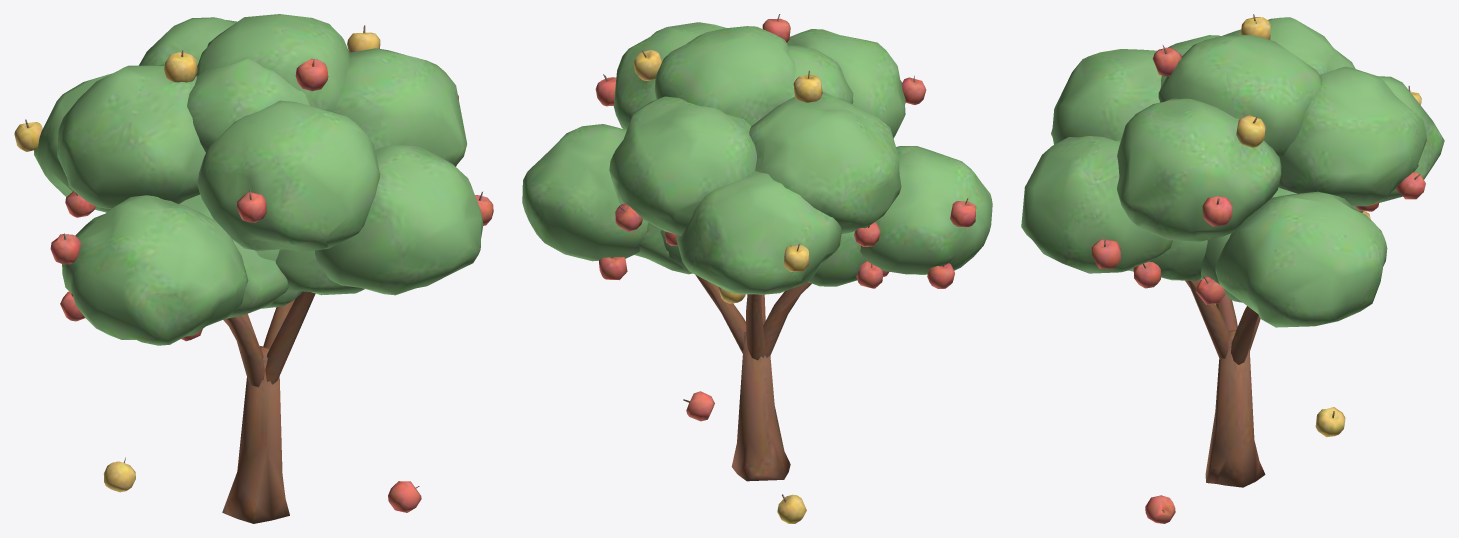
Rendered from apple-tree.glb.
3 renders of one model, left to right at view 1: azimuth 30°, elevation 25°; view 2: azimuth 150°, elevation 25°; view 3: azimuth 270°, elevation 25°, orthographic. The views are drawn at different scales.
Parts seen in each view (by area): view 1: apple-tree_body; view 2: apple-tree_body; view 3: apple-tree_body.
Boxes of the visible parts, bbox=[...] form: apple-tree_body: bbox=[14, 14, 493, 523]; apple-tree_body: bbox=[522, 14, 992, 523]; apple-tree_body: bbox=[1021, 14, 1444, 523].
Size of the model in its own units: 3.88 by 4.02 by 3.49.
1 material, 1 textured.
